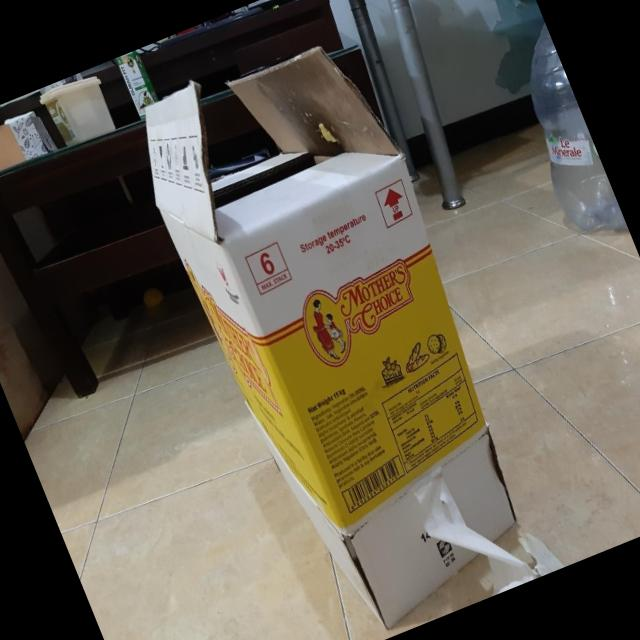Kardus: (117, 16, 567, 640), (301, 296, 342, 362), (320, 310, 349, 354), (397, 338, 432, 374), (374, 352, 404, 386)
